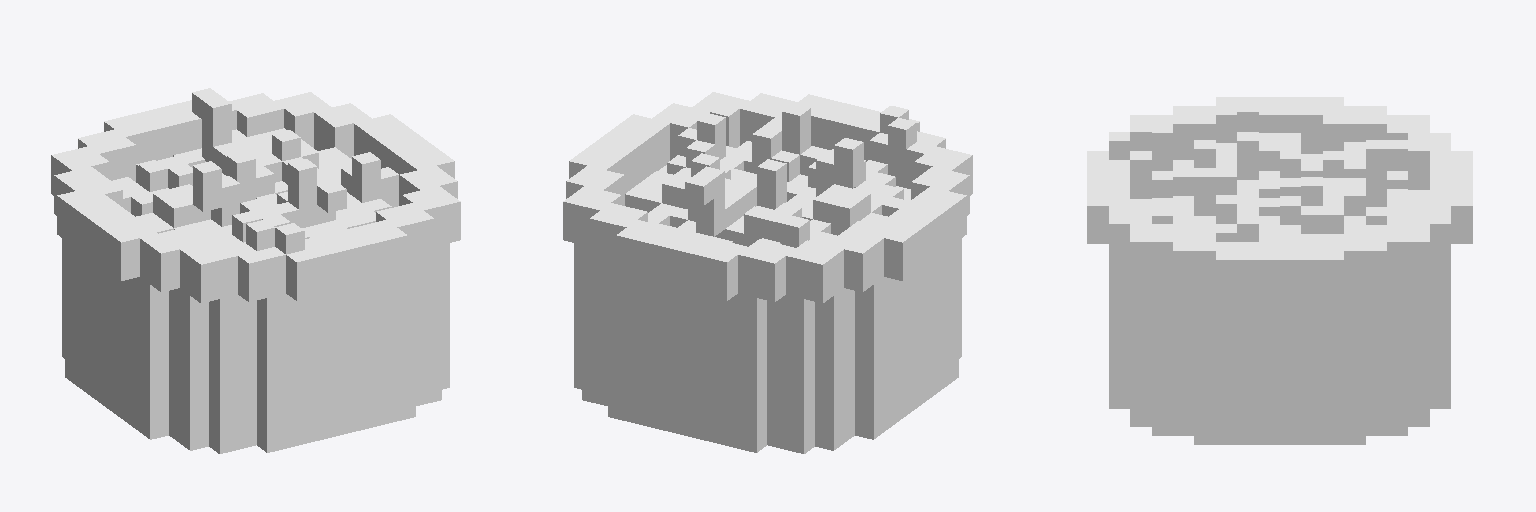
File: ContainerGreenBellpepper.obj
3 renders of one model, left to right at view 1: azimuth 30°, elevation 25°; view 2: azimuth 150°, elevation 25°; view 3: azimuth 270°, elevation 25°, orthographic.
Parts seen in each view (by area): view 1: object 1; view 2: object 1; view 3: object 1.
Part boxes in pixels (x1,y1,x2,y2): object 1: (51, 88, 460, 453); object 1: (563, 92, 972, 453); object 1: (1087, 97, 1472, 444).
Bounding box in the file's own units: 1.8 × 1.2 × 1.8.